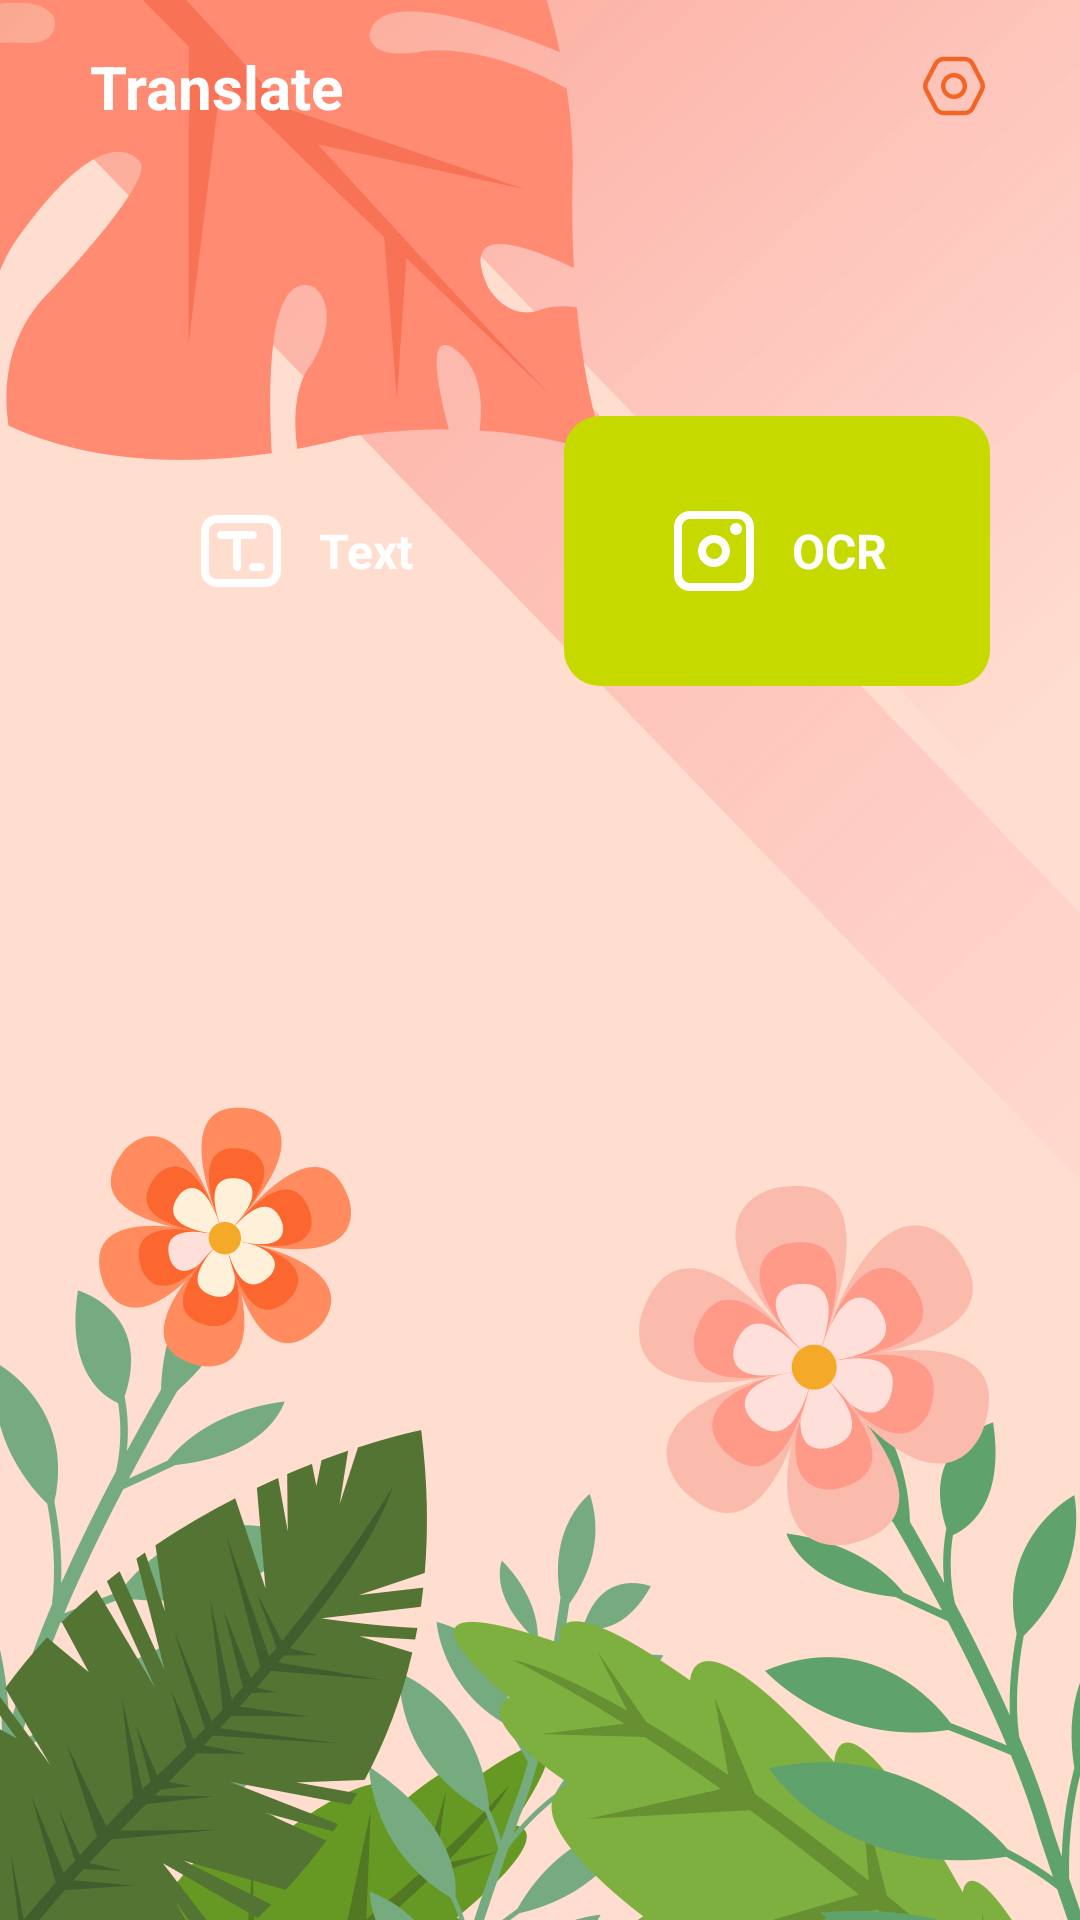

Icon bounding boxes for this 1080w x 1920h phone screenshot, format (x1, y1, x2, y2):
set: (923, 56, 985, 116)
